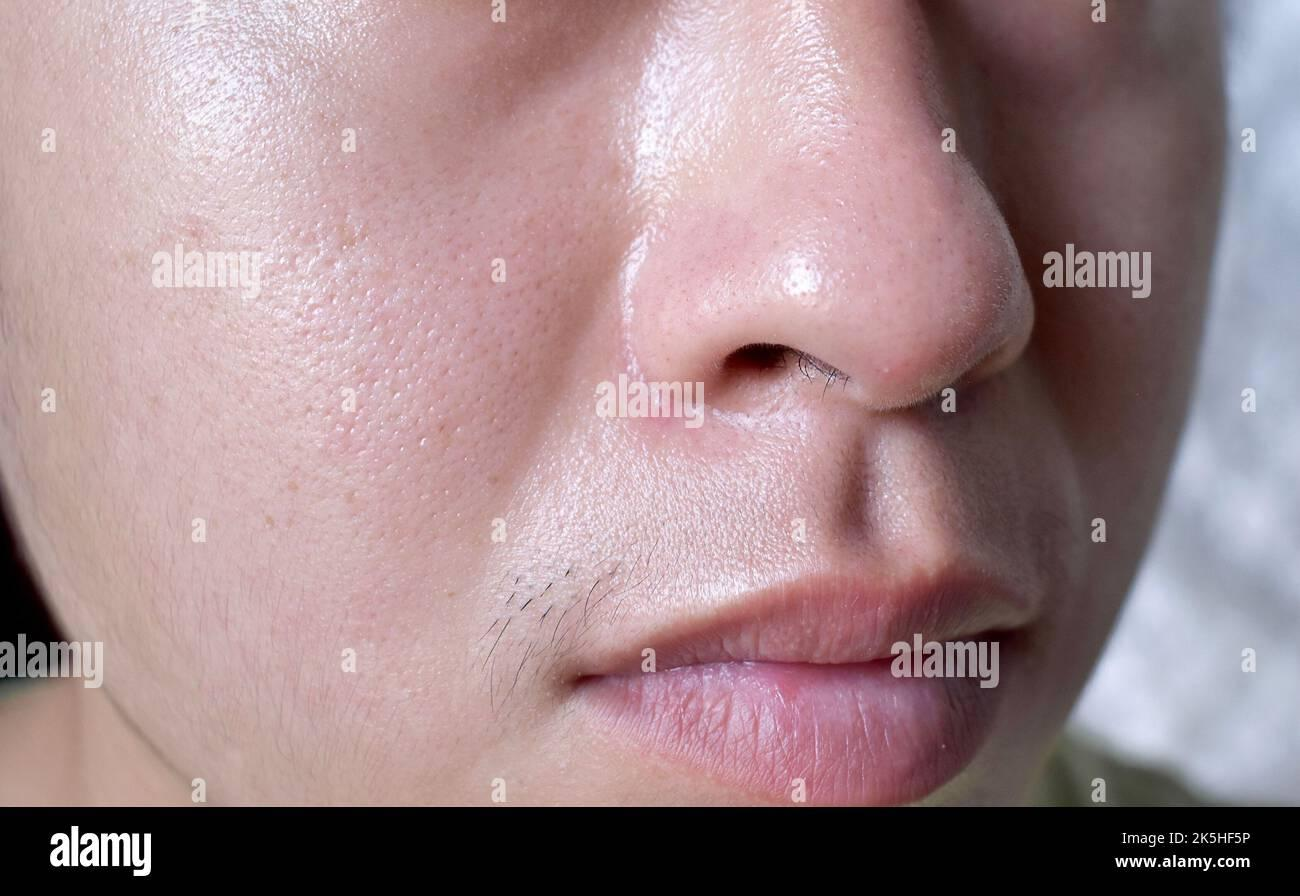Englarged-Pores: (241, 226, 444, 497)
Oily-Skin: (131, 31, 1129, 665)
